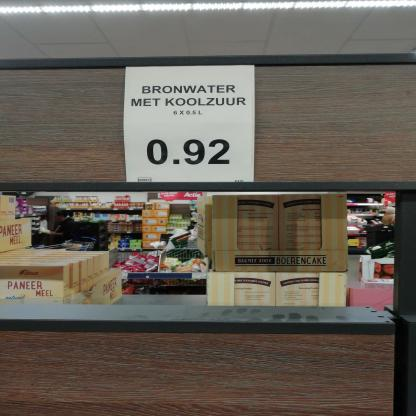prtg: (126, 66, 255, 184)
